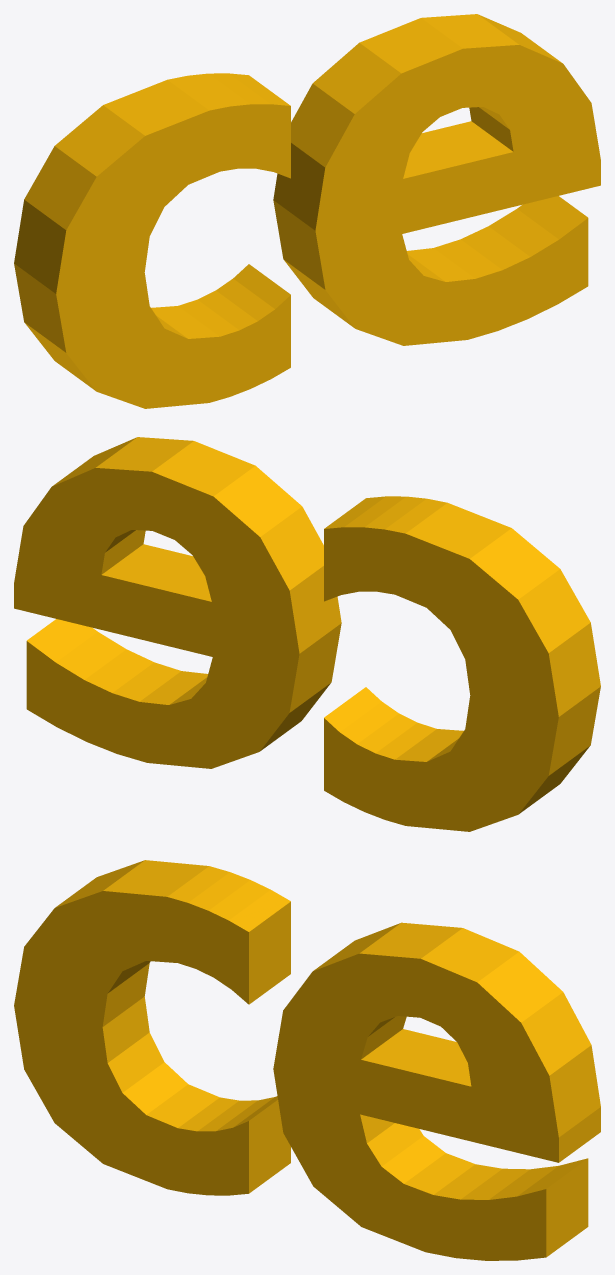
File: suku_kecil_ce.glb
3 views of the same model, one above another, from view 1: azimuth 30°, elevation 25°; view 2: azimuth 150°, elevation 25°; view 3: azimuth 330°, elevation 25° (orthographic).
Parts seen in each view (by area): view 1: geometry_0; view 2: geometry_0; view 3: geometry_0.
Boxes of the visible parts, <box> form: geometry_0: <box>14,14,600,408</box>; geometry_0: <box>14,437,600,831</box>; geometry_0: <box>14,860,600,1260</box>.
Size of the model in its own units: 11.2 by 5.74 by 1.5.
